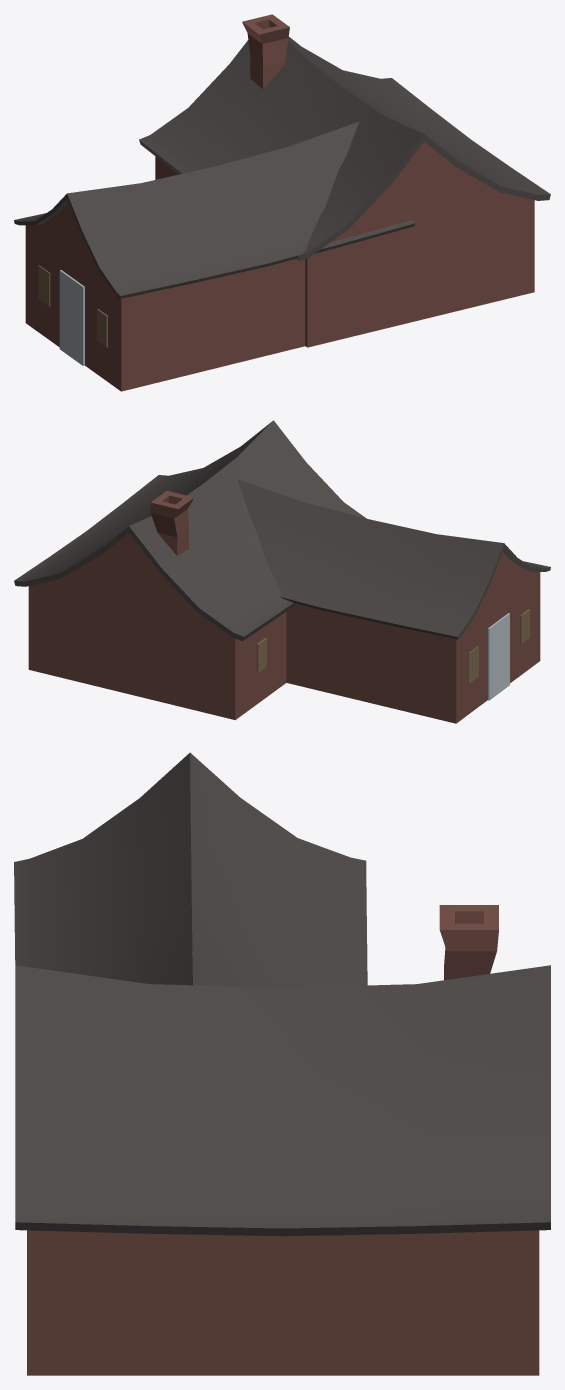
The model's file is P_house_01_LD.fbx.
3 views of the same model, one above another, from view 1: azimuth 30°, elevation 25°; view 2: azimuth 150°, elevation 25°; view 3: azimuth 270°, elevation 25° (orthographic). The views are drawn at different scales.
Parts seen in each view (by area): view 1: P_house_01; view 2: P_house_01; view 3: P_house_01.
Part boxes in pixels (left/top/right/bottom): P_house_01: left=14, top=14, right=550, bottom=391; P_house_01: left=14, top=420, right=550, bottom=723; P_house_01: left=14, top=752, right=550, bottom=1375.
Bounding box in the file's own units: 1313 × 595 × 838.
